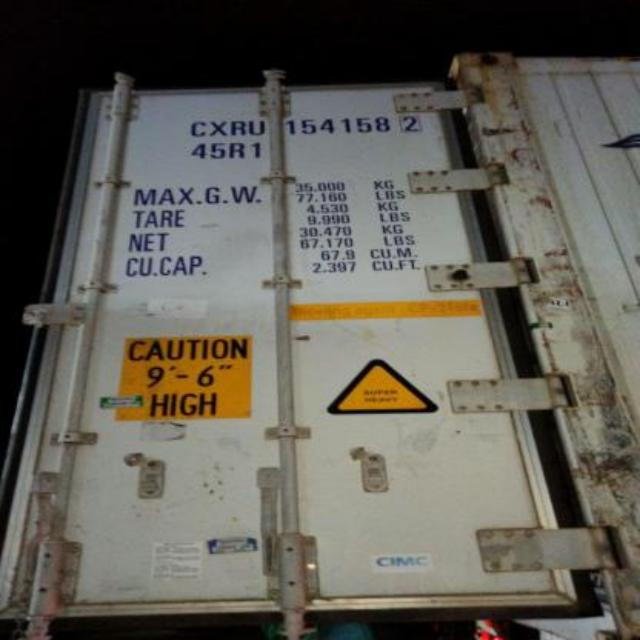1: (337, 113, 355, 137), (282, 116, 298, 136)
2: (398, 110, 424, 134)
4: (318, 112, 334, 138)
5: (354, 112, 374, 136), (299, 115, 317, 138)
8: (372, 112, 394, 138)
C: (185, 118, 209, 138)
R: (228, 118, 246, 138)
U: (248, 115, 268, 141)
X: (210, 115, 228, 138)
